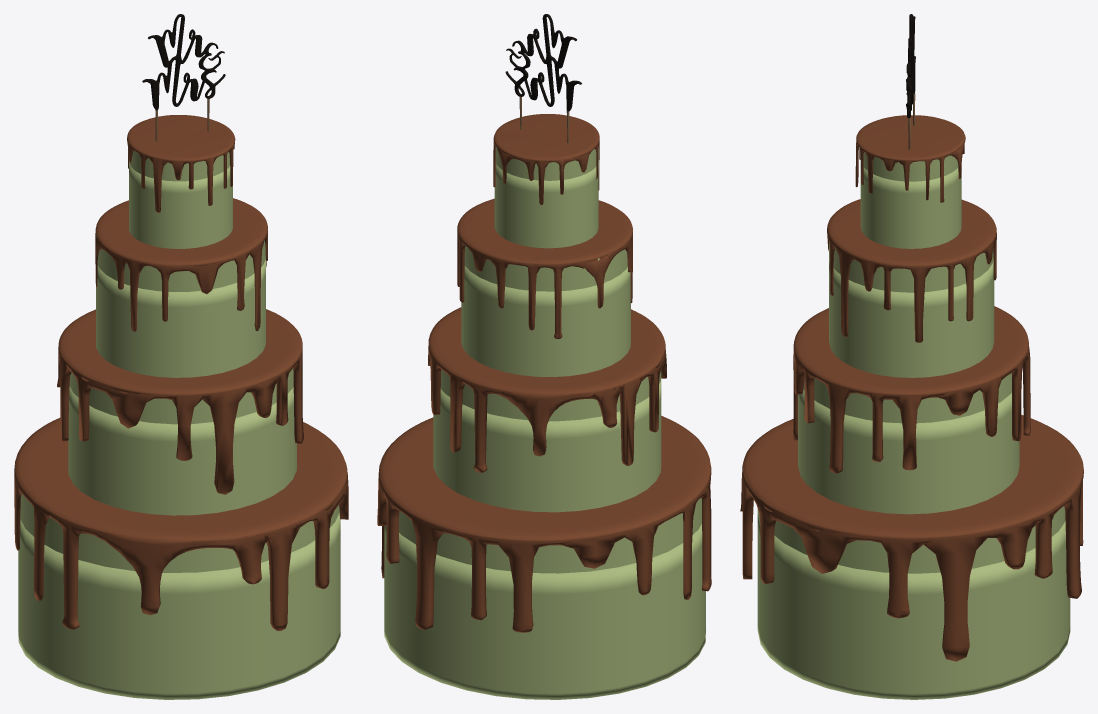
File: 4-tier-pistage-ganache-mrms.glb
3 views of the same model, side by side, from view 1: azimuth 30°, elevation 25°; view 2: azimuth 150°, elevation 25°; view 3: azimuth 270°, elevation 25° (orthographic).
Visible parts, largest first — view 1: 3.001, tHE ICING.008, 3, 2, tHE ICING.007, tHE ICING.006, 1, tHE ICING.009, mrms.004; view 2: 3.001, tHE ICING.008, 3, 2, tHE ICING.007, tHE ICING.006, 1, tHE ICING.009, mrms.004; view 3: 3.001, tHE ICING.008, 3, 2, tHE ICING.007, tHE ICING.006, 1, tHE ICING.009, mrms.004.
Part boxes in pixels (x1,y1,x2,y2): 3.001: [18, 494, 340, 699]; tHE ICING.008: [14, 418, 348, 630]; 3: [68, 368, 296, 515]; 2: [96, 235, 265, 377]; tHE ICING.007: [57, 309, 303, 494]; tHE ICING.006: [95, 198, 267, 331]; 1: [129, 151, 232, 248]; tHE ICING.009: [127, 115, 235, 212]; mrms.004: [142, 14, 225, 141]; 3.001: [384, 497, 705, 699]; tHE ICING.008: [377, 416, 711, 632]; 3: [433, 370, 661, 512]; 2: [461, 245, 630, 376]; tHE ICING.007: [428, 307, 666, 472]; tHE ICING.006: [457, 198, 632, 339]; 1: [494, 146, 598, 248]; tHE ICING.009: [493, 114, 599, 204]; mrms.004: [505, 14, 581, 142]; 3.001: [757, 506, 1070, 699]; tHE ICING.008: [740, 415, 1083, 661]; 3: [798, 373, 1019, 514]; 2: [829, 242, 994, 377]; tHE ICING.007: [793, 306, 1030, 473]; tHE ICING.006: [827, 199, 996, 342]; 1: [860, 152, 961, 248]; tHE ICING.009: [855, 115, 965, 202]; mrms.004: [906, 14, 915, 149].
Bounding box in the file's own units: 4.52 × 9.28 × 4.69.
